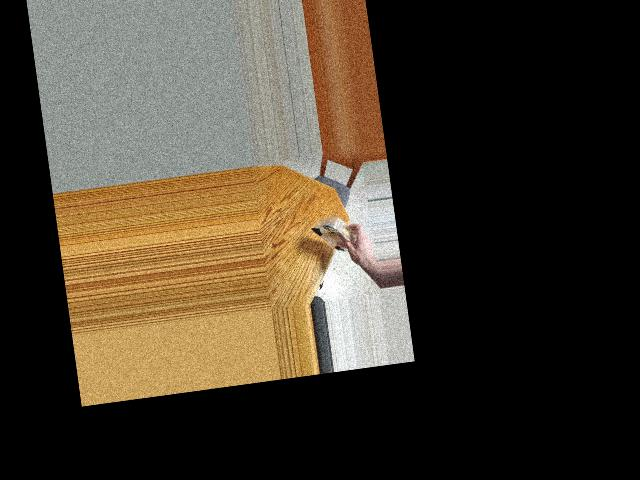cheese: (311, 204, 362, 269)
